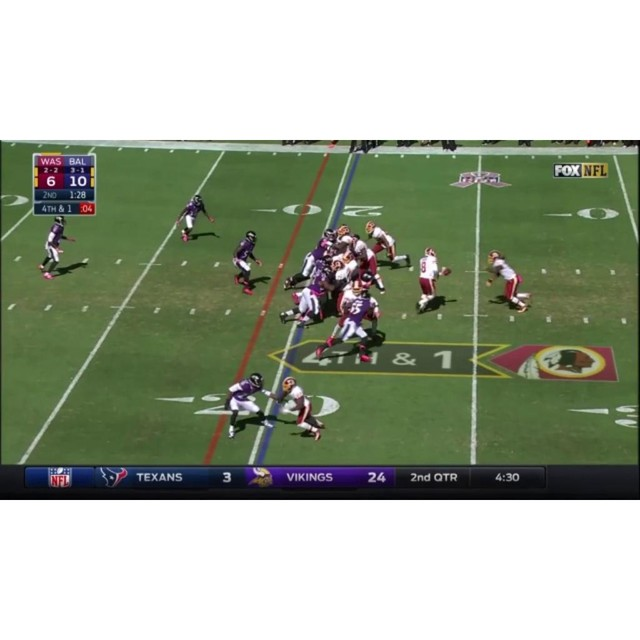american-football-player: (318, 289, 375, 361), (281, 228, 337, 291), (224, 372, 276, 439), (279, 263, 331, 327), (276, 376, 325, 441), (486, 249, 532, 313), (36, 215, 77, 279), (364, 220, 412, 268), (349, 234, 386, 293), (415, 247, 447, 314), (232, 231, 263, 293), (176, 194, 215, 242)
